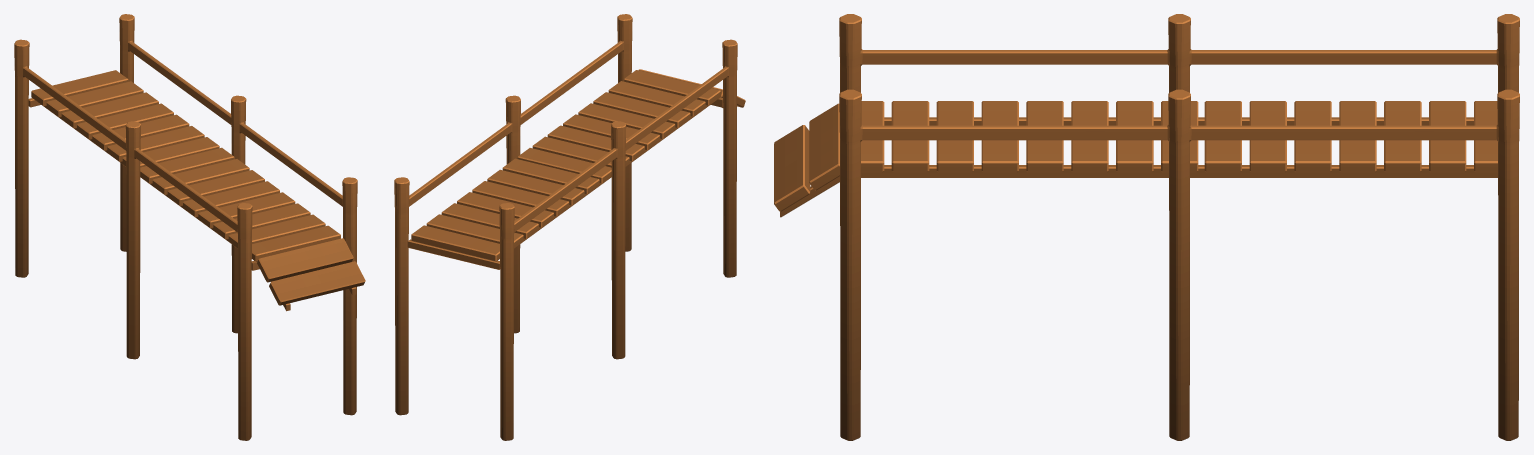
Rendered from Bridge.fbx.
The picture shows the model from 3 angles, left to right: view 1: azimuth 30°, elevation 25°; view 2: azimuth 150°, elevation 25°; view 3: azimuth 270°, elevation 25°; orthographic projection. The views are drawn at different scales.
Parts seen in each view (by area): view 1: Bridge; view 2: Bridge; view 3: Bridge.
Boxes of the visible parts, <box> form: Bridge: <box>14,14,365,440</box>; Bridge: <box>394,14,745,440</box>; Bridge: <box>774,14,1519,440</box>.
Size of the model in its own units: 509 by 956 by 1883.
